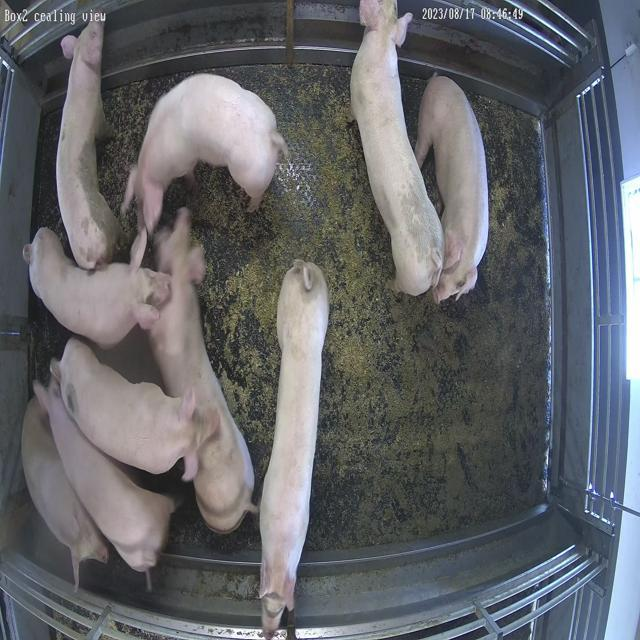Dirt: (162, 64, 551, 552), (98, 73, 186, 238)
Pig: (149, 208, 254, 534), (352, 0, 445, 296), (35, 380, 175, 573), (123, 73, 288, 232), (260, 261, 329, 640), (51, 339, 217, 481), (23, 228, 169, 349), (416, 75, 490, 302), (21, 398, 108, 590), (56, 21, 120, 270)
